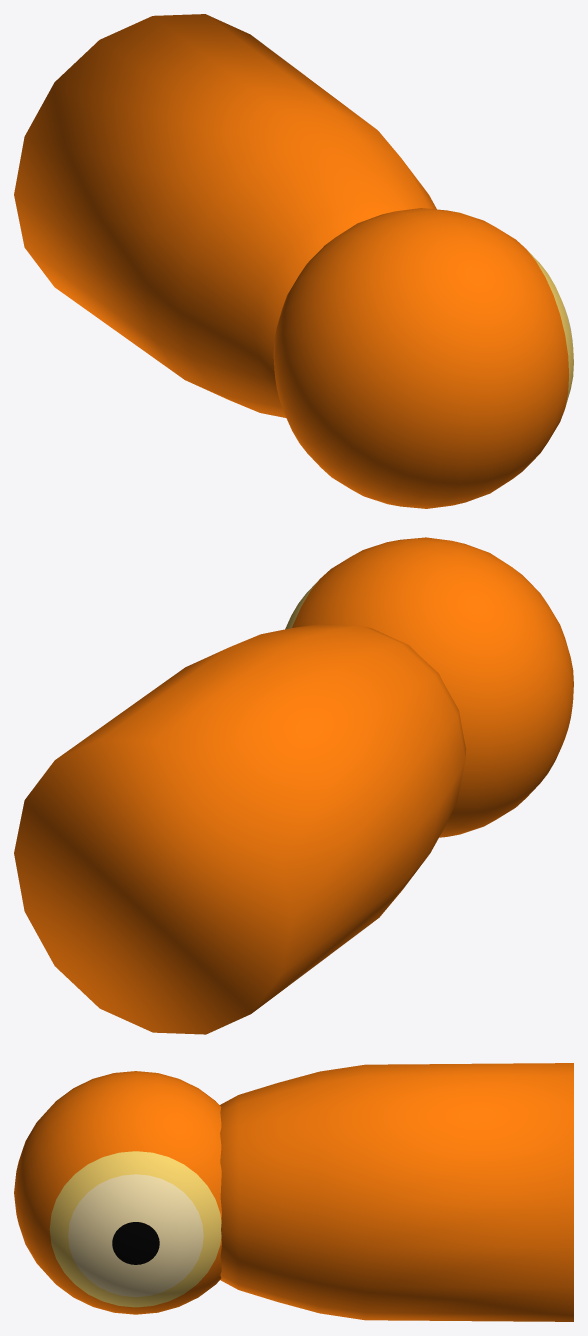
File: starting_unit_character_orange.glb
3 renders of one model, top to bottom at view 1: azimuth 30°, elevation 25°; view 2: azimuth 150°, elevation 25°; view 3: azimuth 270°, elevation 25°, orthographic. The views are drawn at different scales.
Parts seen in each view (by area): view 1: starting_unit_orange; view 2: starting_unit_orange; view 3: starting_unit_orange.
Part boxes in pixels (x1,y1,x2,y2): starting_unit_orange: (14, 14, 573, 508); starting_unit_orange: (14, 537, 573, 1034); starting_unit_orange: (14, 1063, 573, 1321).
Size of the model in its own units: 1 by 1 by 2.16.
